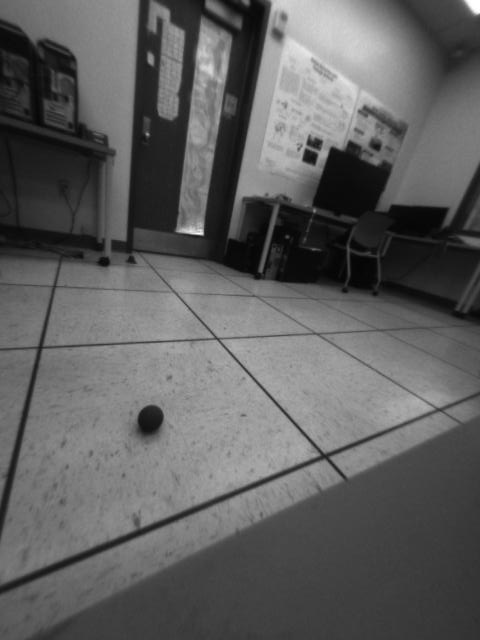dogtoy: (130, 398, 169, 438)
